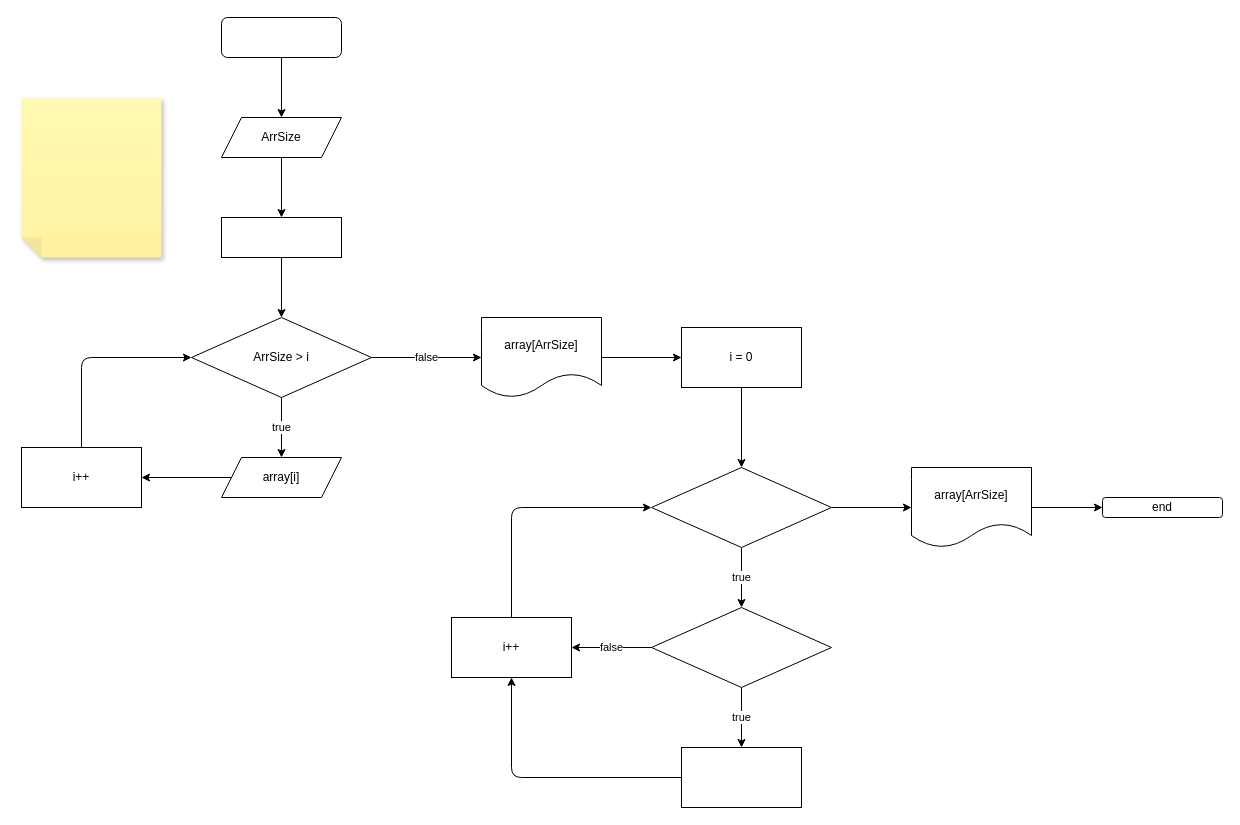
This 1240x825 diagram has some shape labels left out. The shapes that lost their labels are listed below. From the top down, each one's centre as x and y in pixels, then its label:
the point at 281,37: start
the point at 281,237: i = 0 array[ArrSize]
the point at 741,507: array.length > i
the point at 741,647: array[i].length > 3
the point at 741,777: del array[i]
